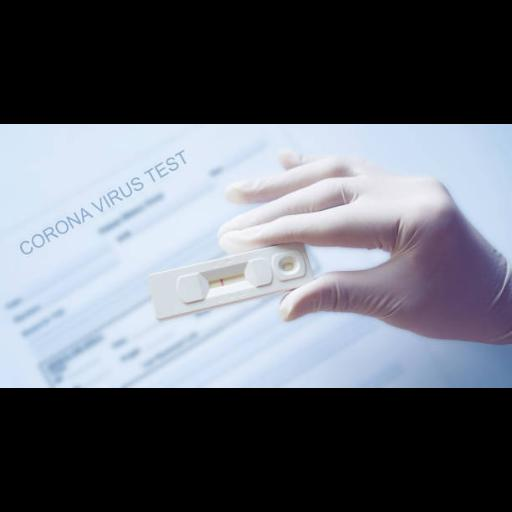Neg: (145, 239, 317, 320)
